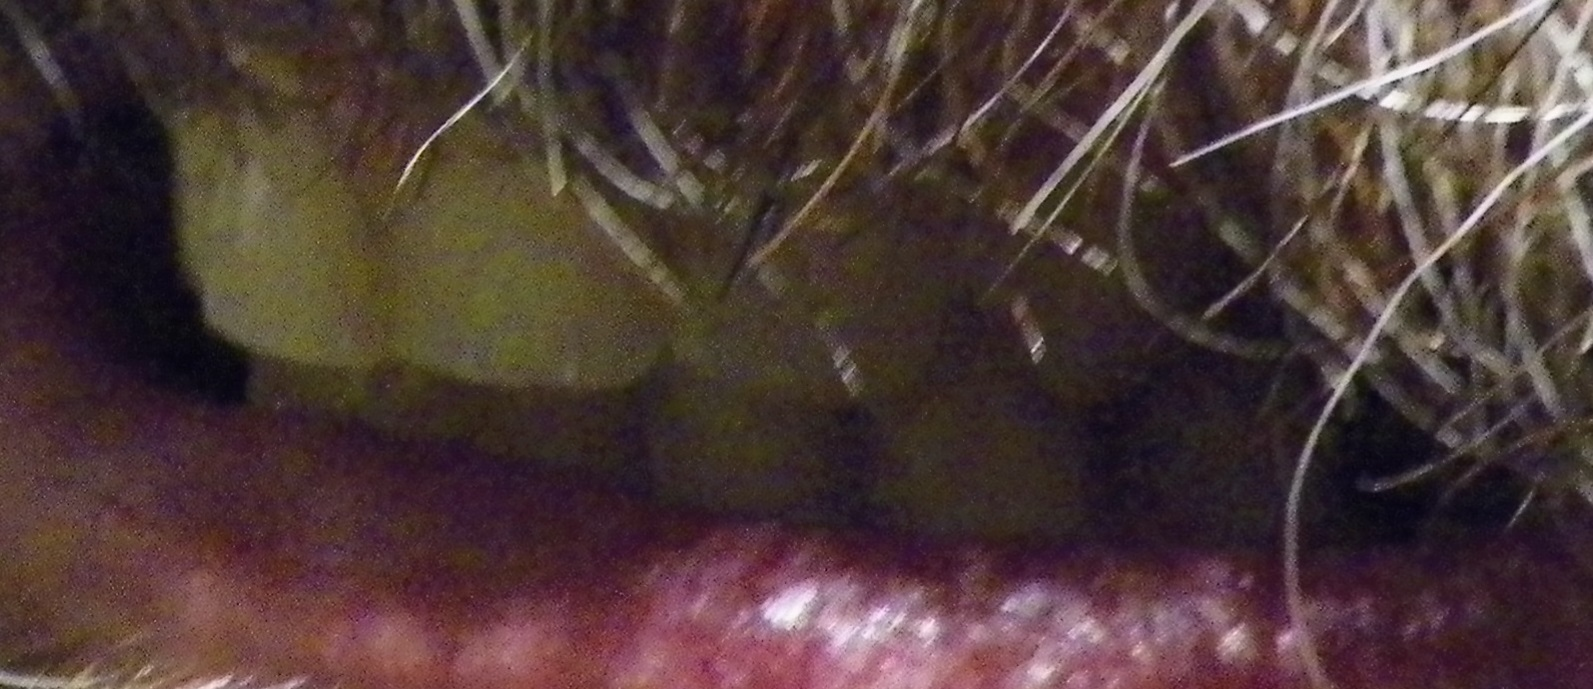boca: (169, 74, 1388, 568)
